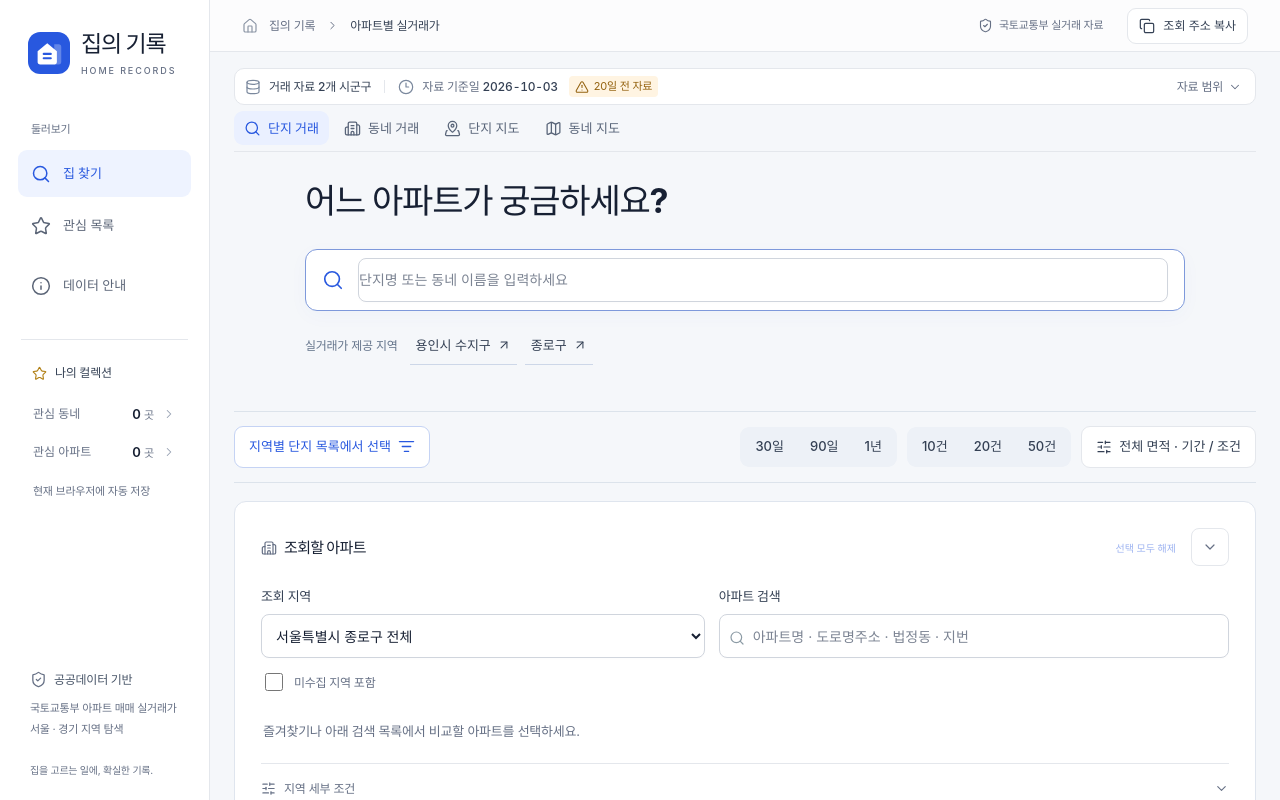
Test case: Browser selection persistence › lets an explicit shared region and legacy monthly period override the previous visit
Step 1. Click the button "전체 면적 · 기간 / 조건" → (1169, 447), box [1081,426,1256,468]
(page scrolled)
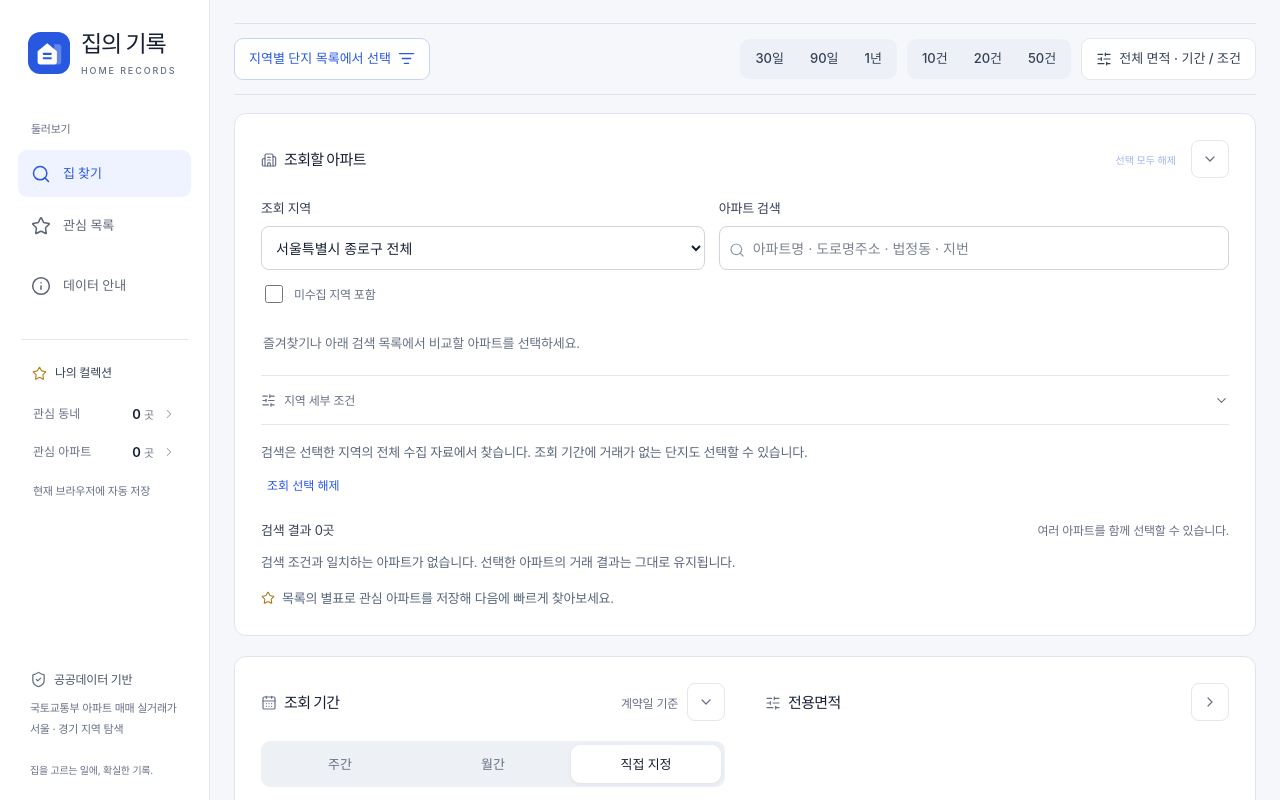
Check: the dropdown labelled "조회 지역" shows "서울특별시 종로구 전체", box [261,226,705,270]
Check: the text "검색 조건과 일치하는 아파트가 없습니다. 선택한 아파트의 거래 결과는 그대로 유지됩니다." is shown, box [261,554,735,570]
Step 2. Click the heading "지역 세부 조건" → (320, 400), box [261,393,1229,408]
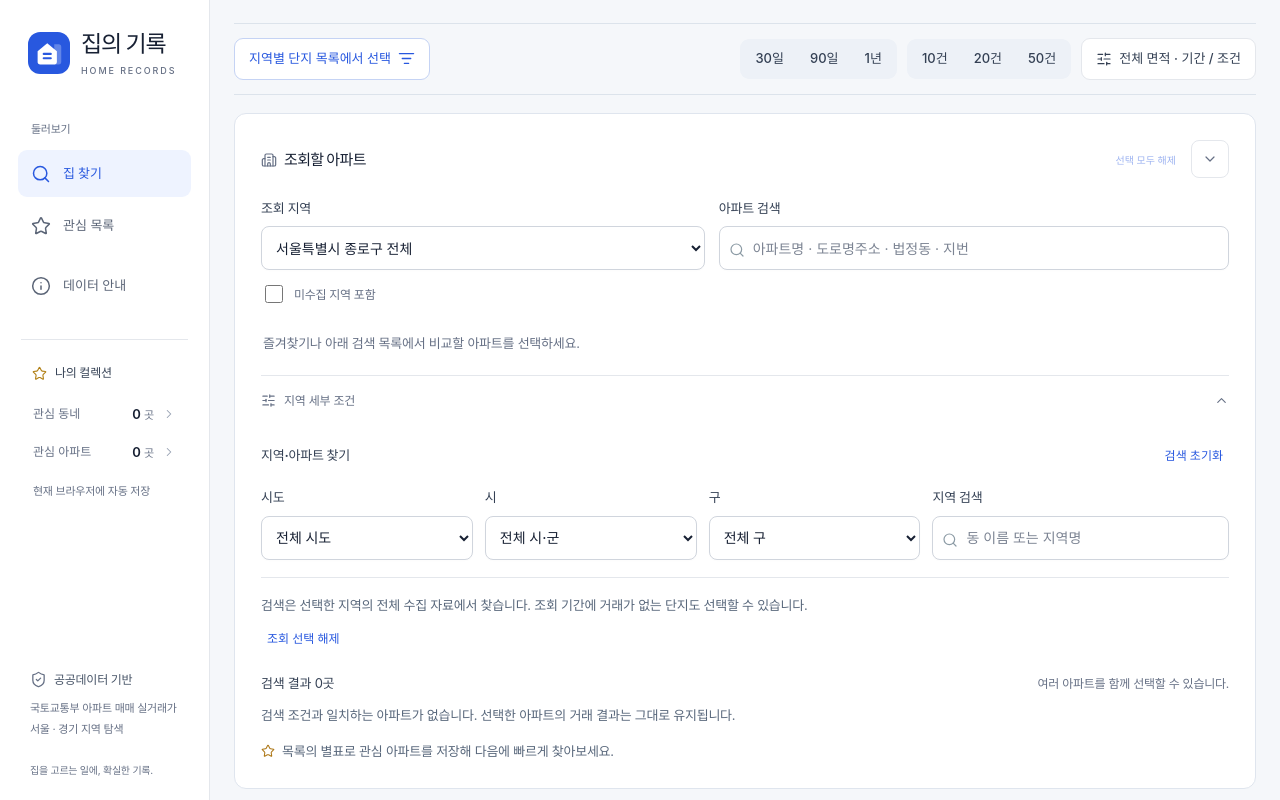
Check: the dropdown labelled "시도" shows "전체 시도", box [261,516,473,560]
